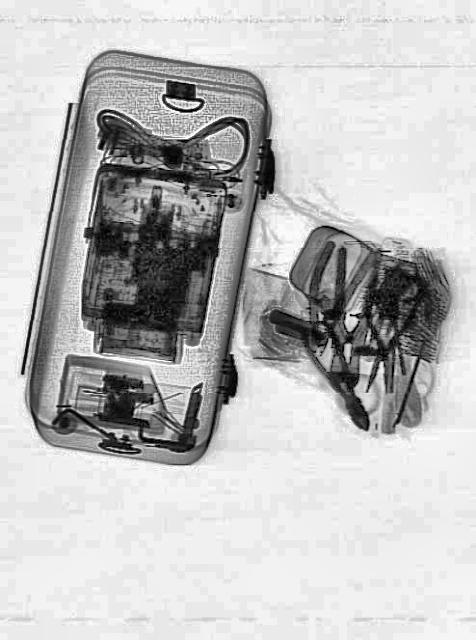Pliers: (297, 312, 383, 441), (318, 238, 382, 396), (352, 266, 424, 399)
